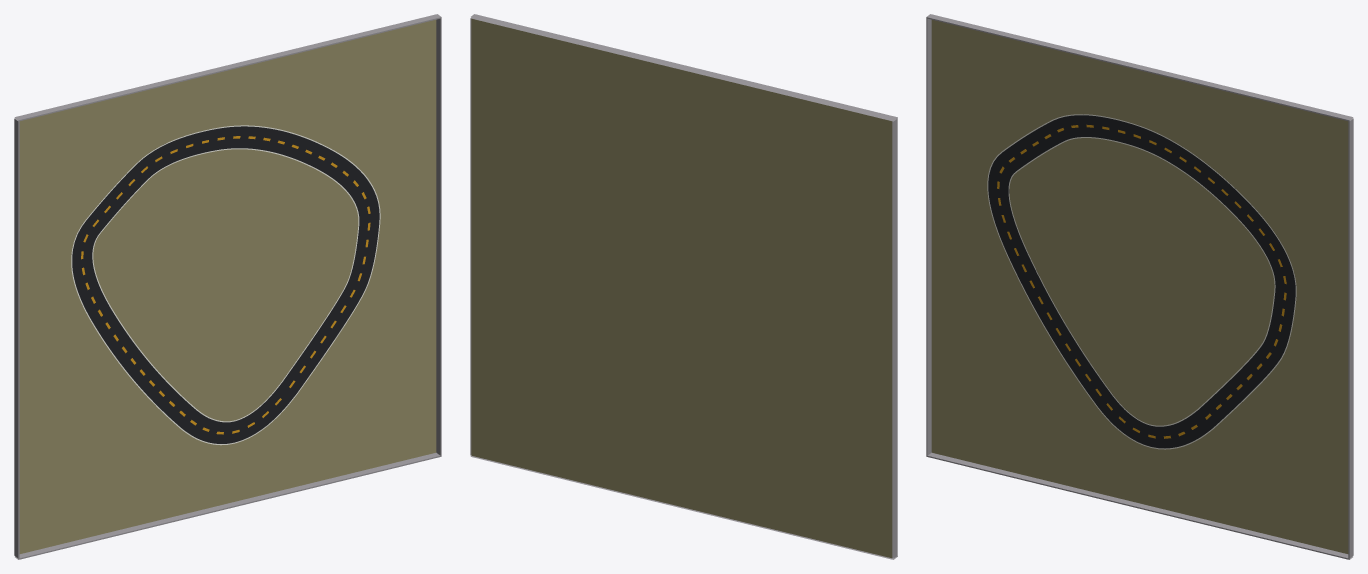
Rendered from track.obj.
3 views of the same model, side by side, from view 1: azimuth 30°, elevation 25°; view 2: azimuth 150°, elevation 25°; view 3: azimuth 330°, elevation 25° (orthographic).
Size of the model in its own units: 17.47 by 17.34 by 0.3.
Materials: 5 (5 with a texture image).
